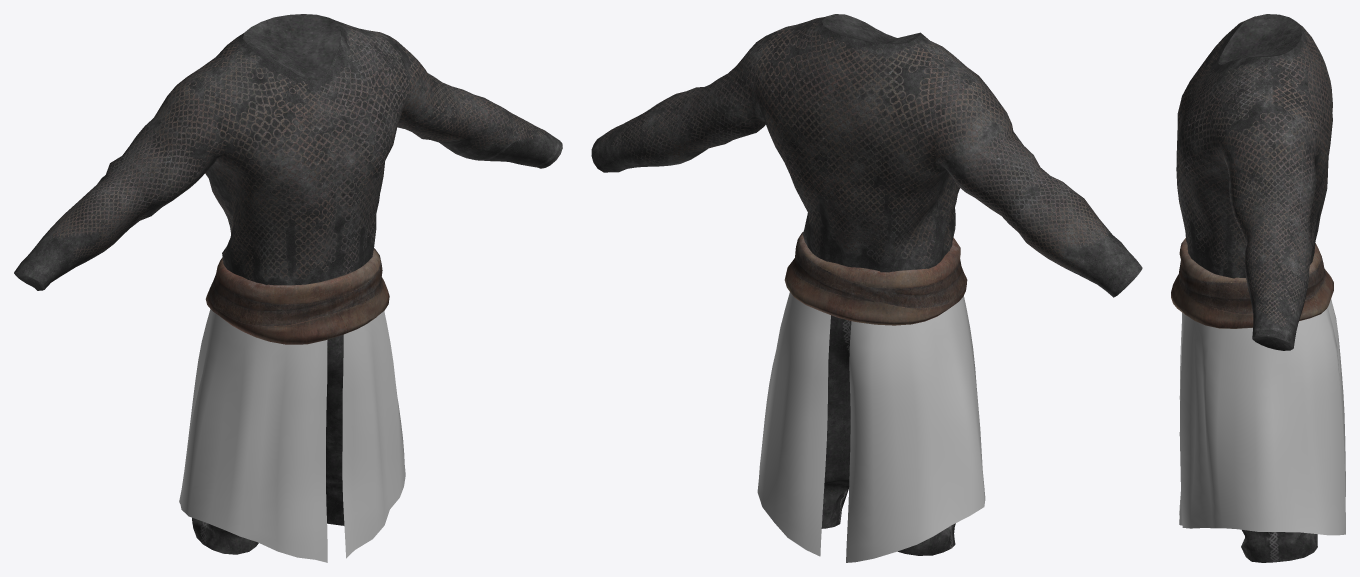
Rendered from sk_dg_uruk_chest_light_c.fbx.
3 renders of one model, left to right at view 1: azimuth 30°, elevation 25°; view 2: azimuth 150°, elevation 25°; view 3: azimuth 270°, elevation 25°, orthographic. The views are drawn at different scales.
Visible parts, largest first — view 1: sk_dg_uruk_chest_light_c.0, sk_dg_uruk_chest_light_c.skirt, sk_dg_uruk_chest_light_c.1; view 2: sk_dg_uruk_chest_light_c.0, sk_dg_uruk_chest_light_c.skirt, sk_dg_uruk_chest_light_c.1; view 3: sk_dg_uruk_chest_light_c.0, sk_dg_uruk_chest_light_c.skirt, sk_dg_uruk_chest_light_c.1.
Part boxes in pixels (box(x1,y1,x2,y2)): sk_dg_uruk_chest_light_c.0: box(14, 14, 562, 554); sk_dg_uruk_chest_light_c.skirt: box(179, 309, 405, 562); sk_dg_uruk_chest_light_c.1: box(205, 248, 389, 344); sk_dg_uruk_chest_light_c.0: box(591, 14, 1142, 555); sk_dg_uruk_chest_light_c.skirt: box(757, 292, 985, 562); sk_dg_uruk_chest_light_c.1: box(784, 232, 967, 325); sk_dg_uruk_chest_light_c.0: box(1176, 14, 1332, 562); sk_dg_uruk_chest_light_c.skirt: box(1179, 299, 1345, 535); sk_dg_uruk_chest_light_c.1: box(1171, 238, 1333, 328).
Size of the model in its own units: 1.35 by 0.3855 by 1.2.
